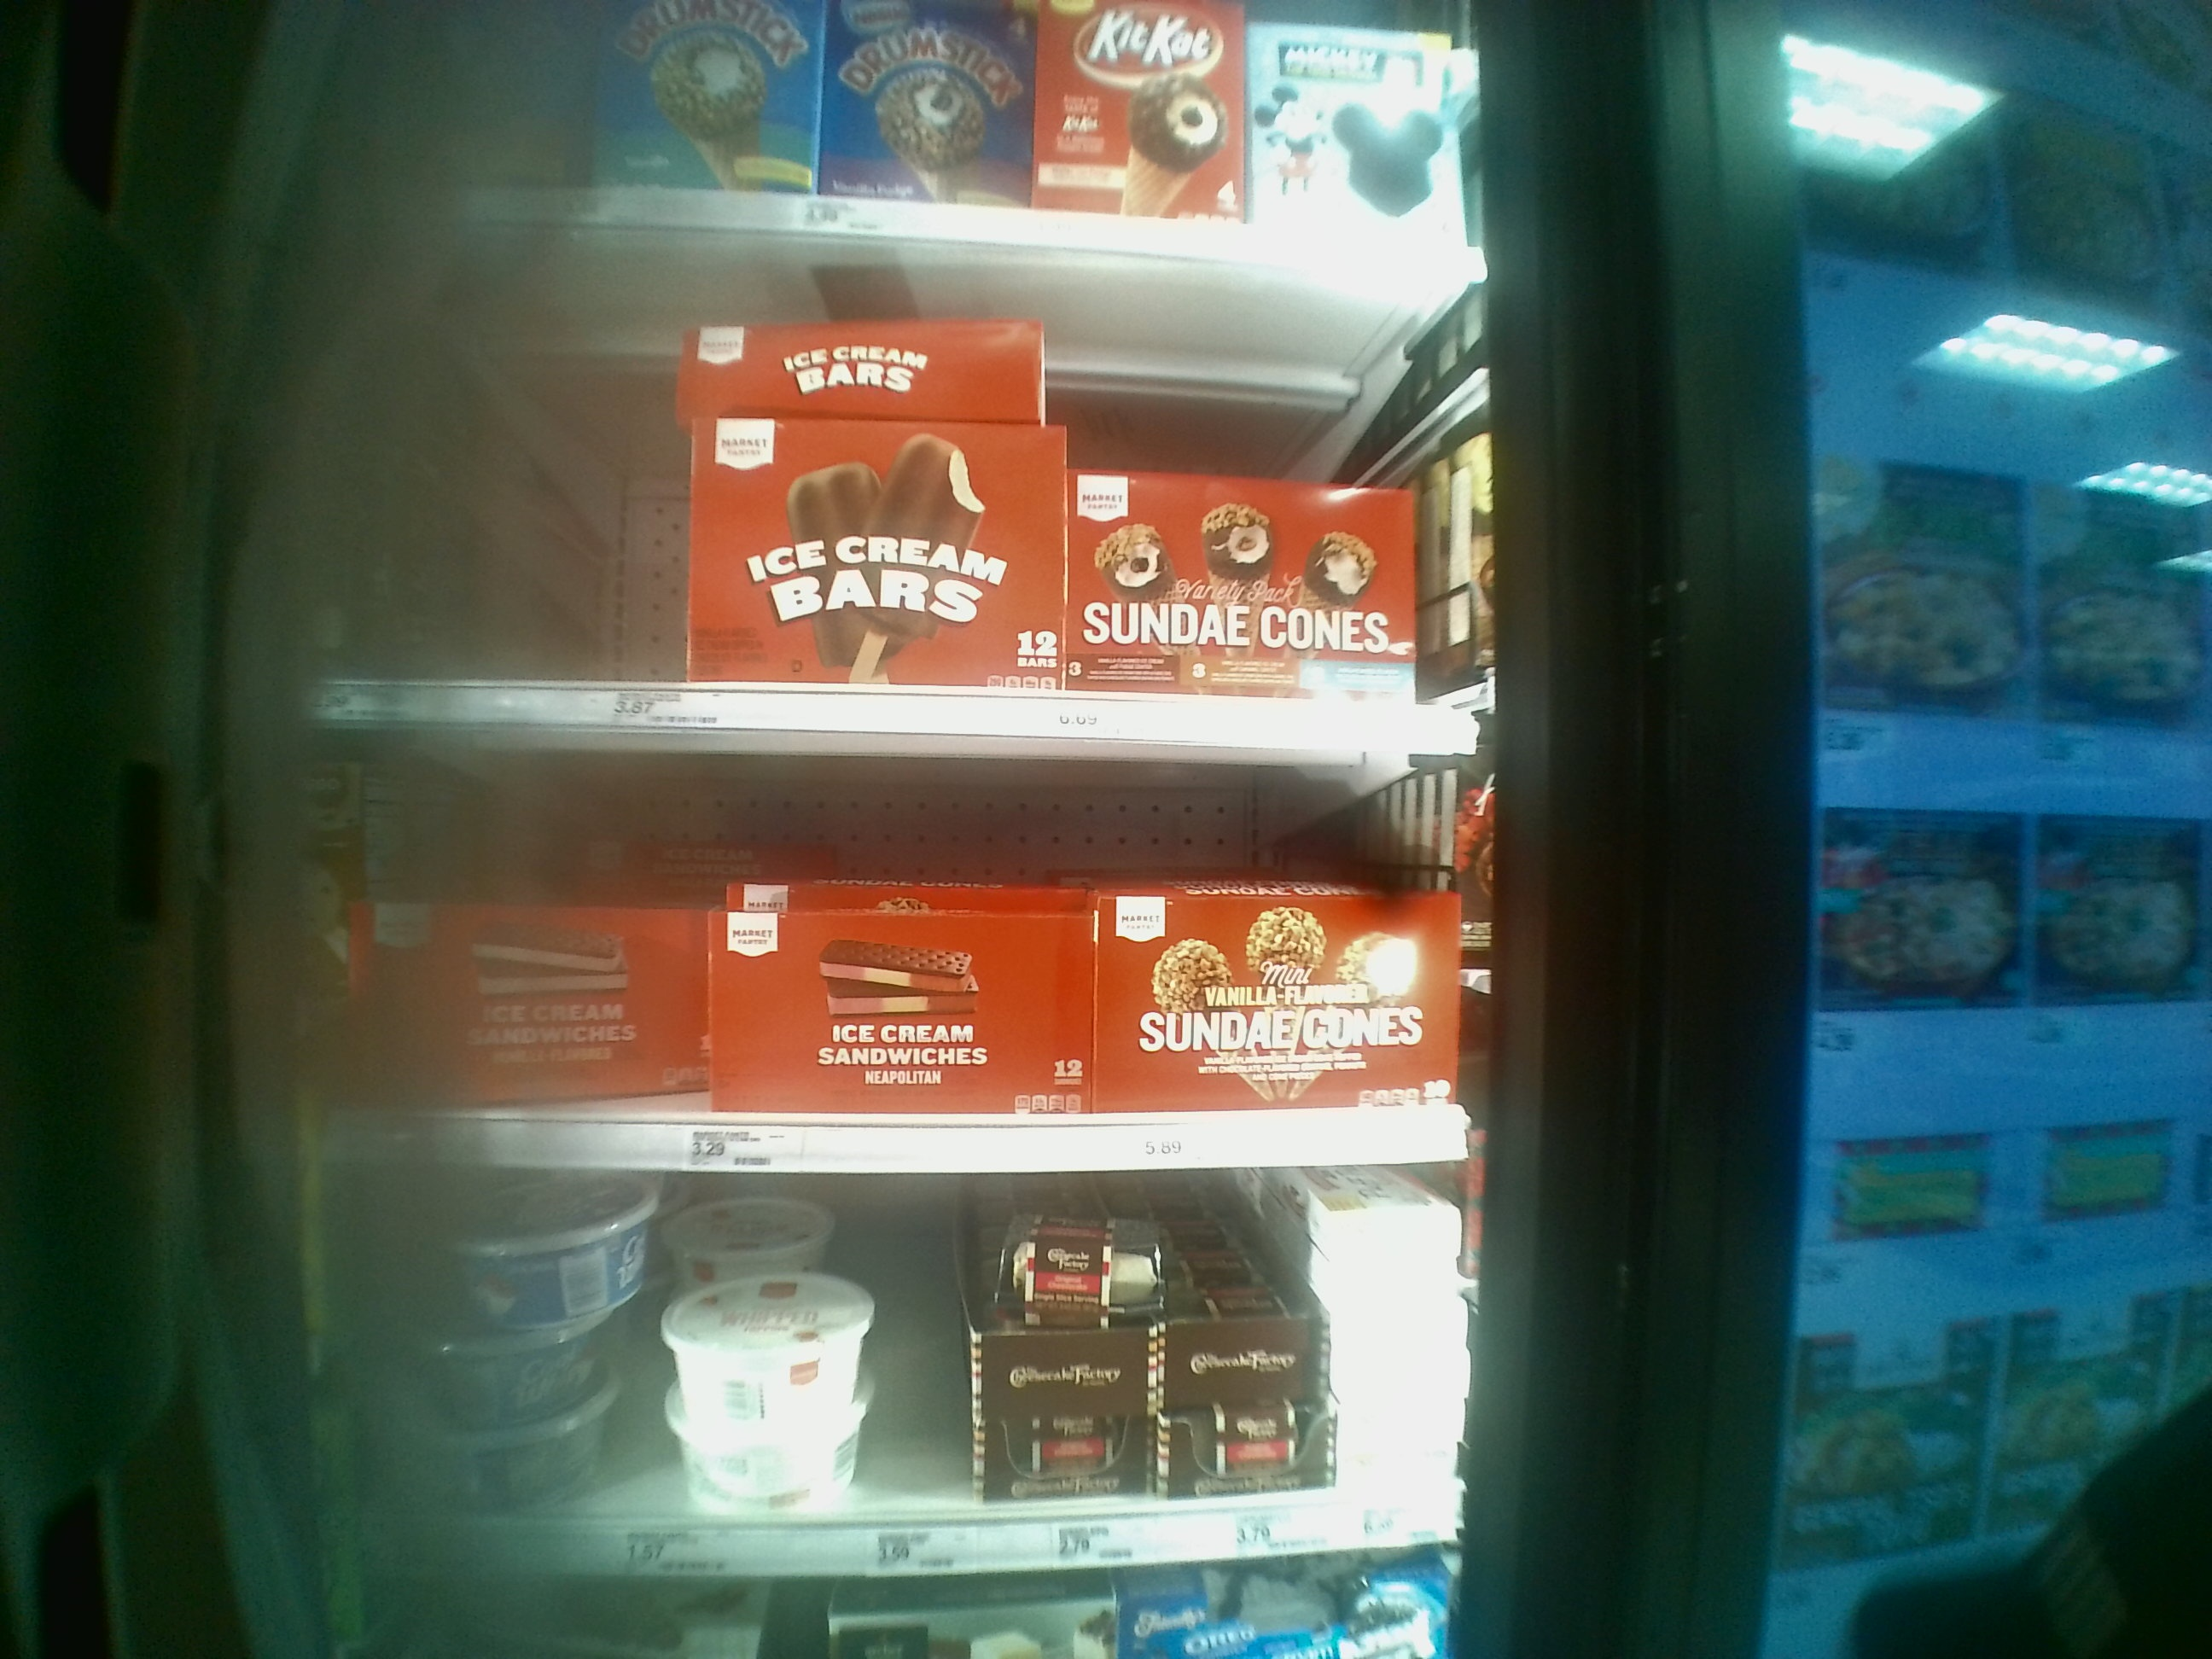shelf: (258, 234, 1543, 744), (261, 746, 1543, 1178), (263, 1175, 1576, 1575)
